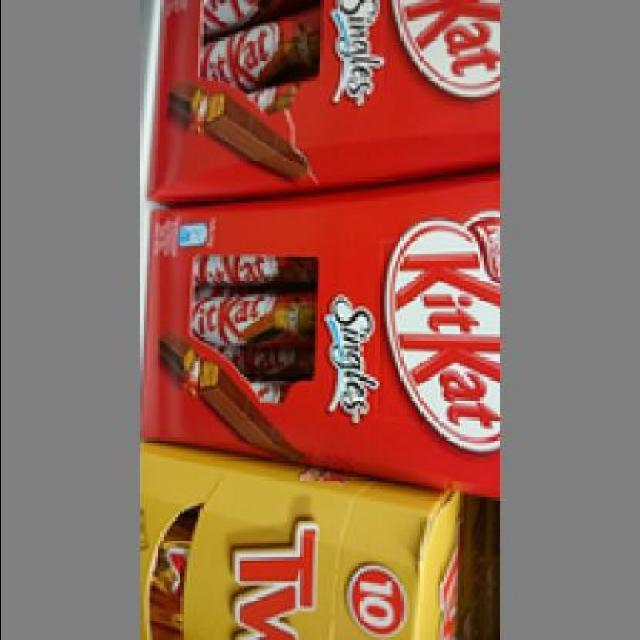Chocolate bar: (147, 166, 503, 483), (157, 1, 503, 192), (148, 452, 466, 636)
